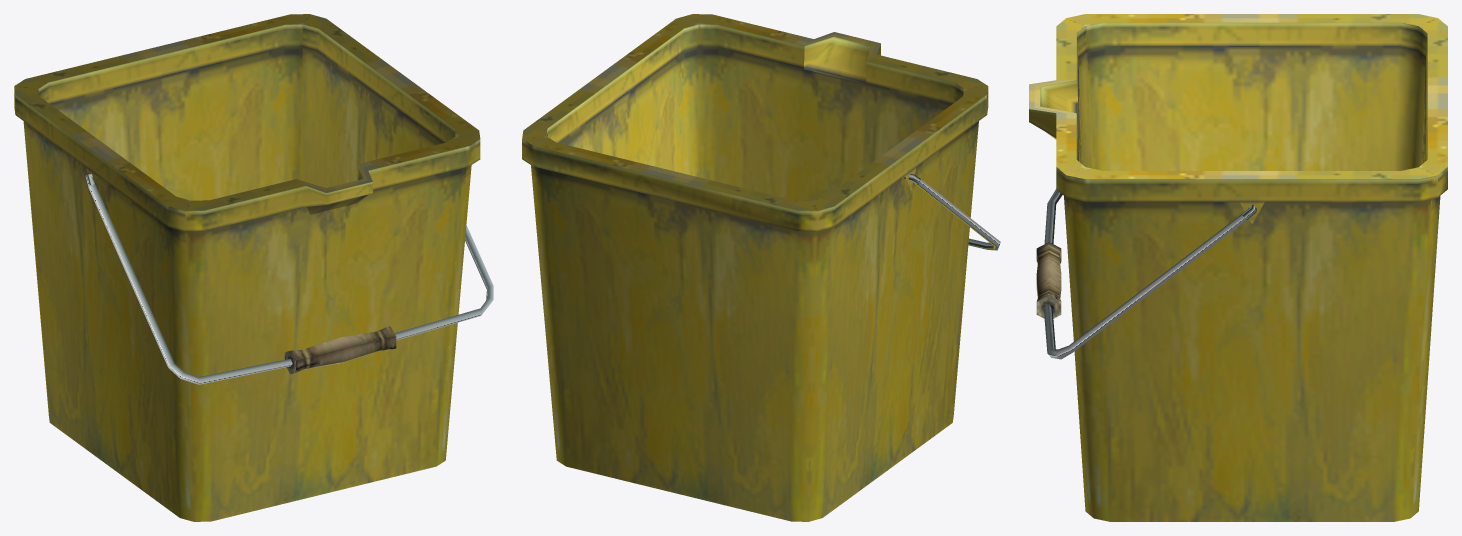
Rendered from bucket_ruth.fbx.
3 renders of one model, left to right at view 1: azimuth 30°, elevation 25°; view 2: azimuth 150°, elevation 25°; view 3: azimuth 270°, elevation 25°, orthographic. The views are drawn at different scales.
Visible parts, largest first — view 1: mesh_0; view 2: mesh_0; view 3: mesh_0.
Part boxes in pixels (<box>): mesh_0: <box>14,14,493,521</box>; mesh_0: <box>522,14,1000,521</box>; mesh_0: <box>1029,14,1447,521</box>.
Bounding box in the file's own units: 41.63 × 40 × 42.79.
1 material, 1 textured.
